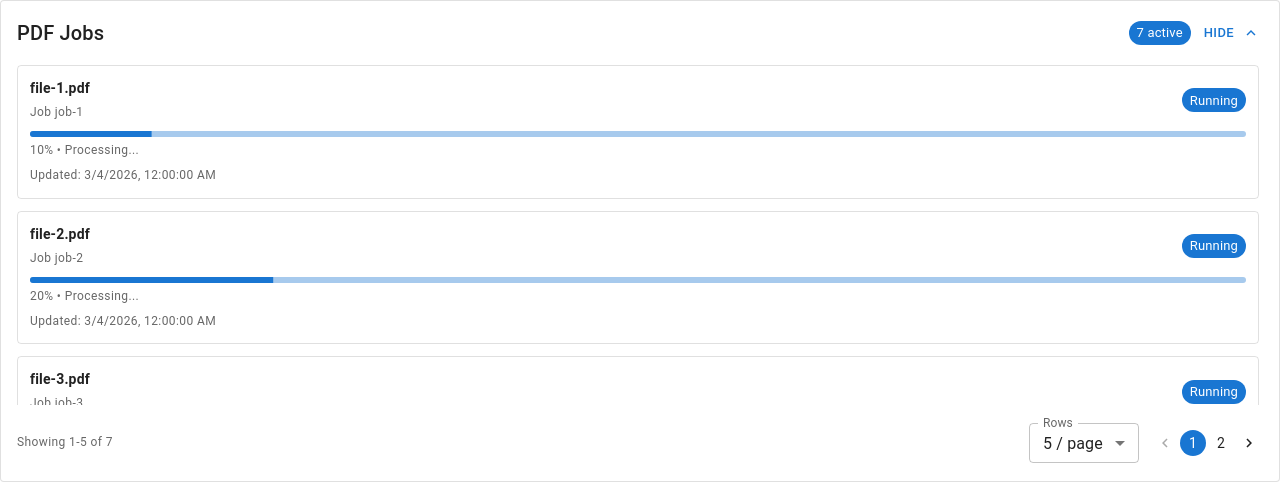
PdfJobsPanel › paginates to the next page
Click the button named "Go to page 2" at (1221, 443), box x1=1208 y1=430 x2=1234 y2=456
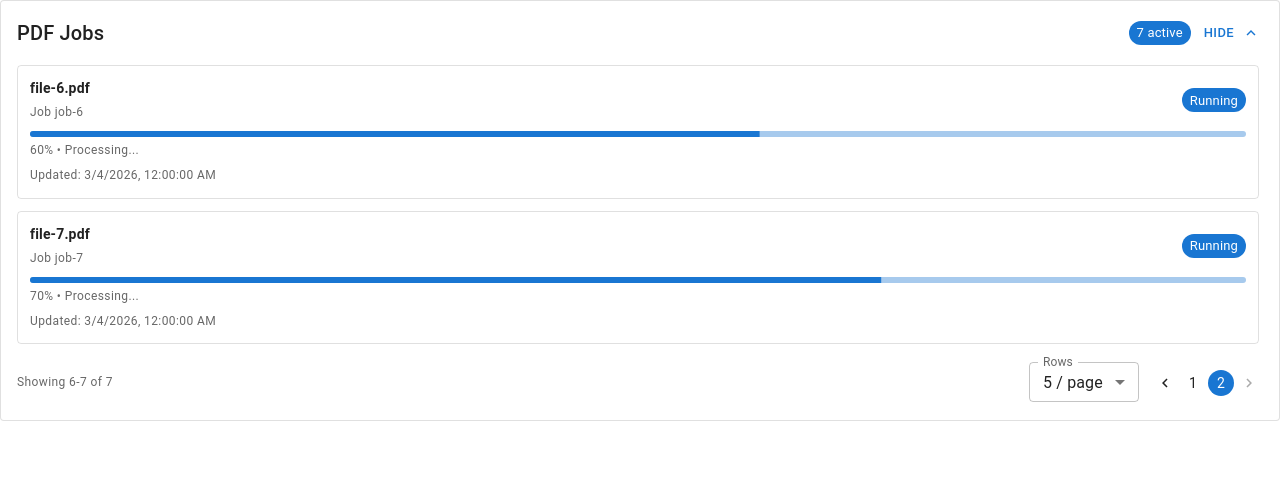
Result: the text "file-6.pdf" is shown at x1=30 y1=78 x2=90 y2=98
Result: the text "file-7.pdf" is shown at x1=30 y1=224 x2=90 y2=244
Result: the text "file-1.pdf" is gone
